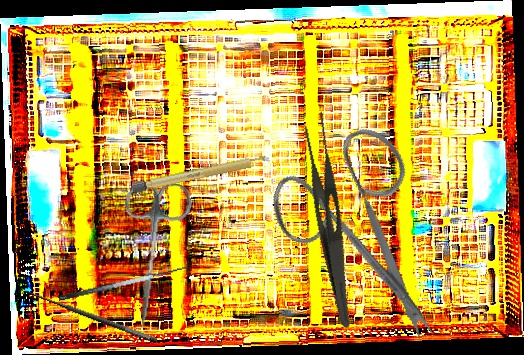Dressing Forceps: (291, 109, 375, 330)
Hook Surgical: (14, 283, 159, 355)
Iris Scissors: (243, 105, 496, 348), (111, 178, 194, 333)
Scalpel Handle: (131, 153, 271, 194)
Spatula Surgical: (55, 256, 191, 302)
